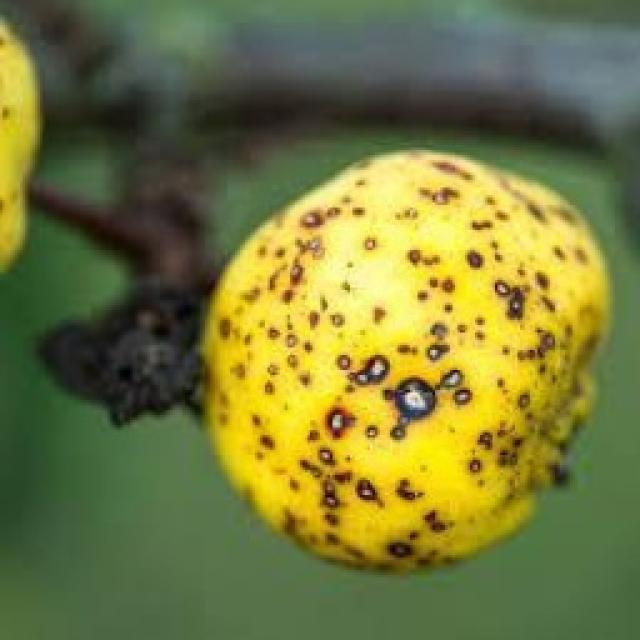defective: (198, 145, 612, 575)
